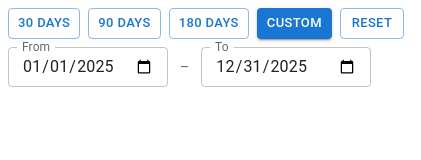
DateRangeFilter inverted range › emits the full range when an inverted range is corrected
Type "2026-01-15" into the date field labelled "From".
click(88, 67); type("2026-01-15")  # box [8,47,168,87]
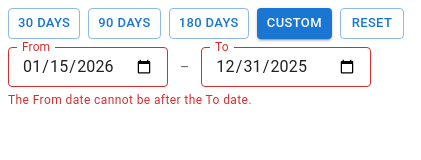
Type "2026-02-01" into the date field labelled "To".
click(286, 67); type("2026-02-01")  # box [201,47,371,87]
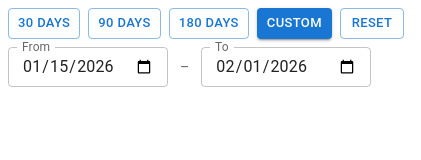
Check: the message "The From date cannot be after the To date." is gone
